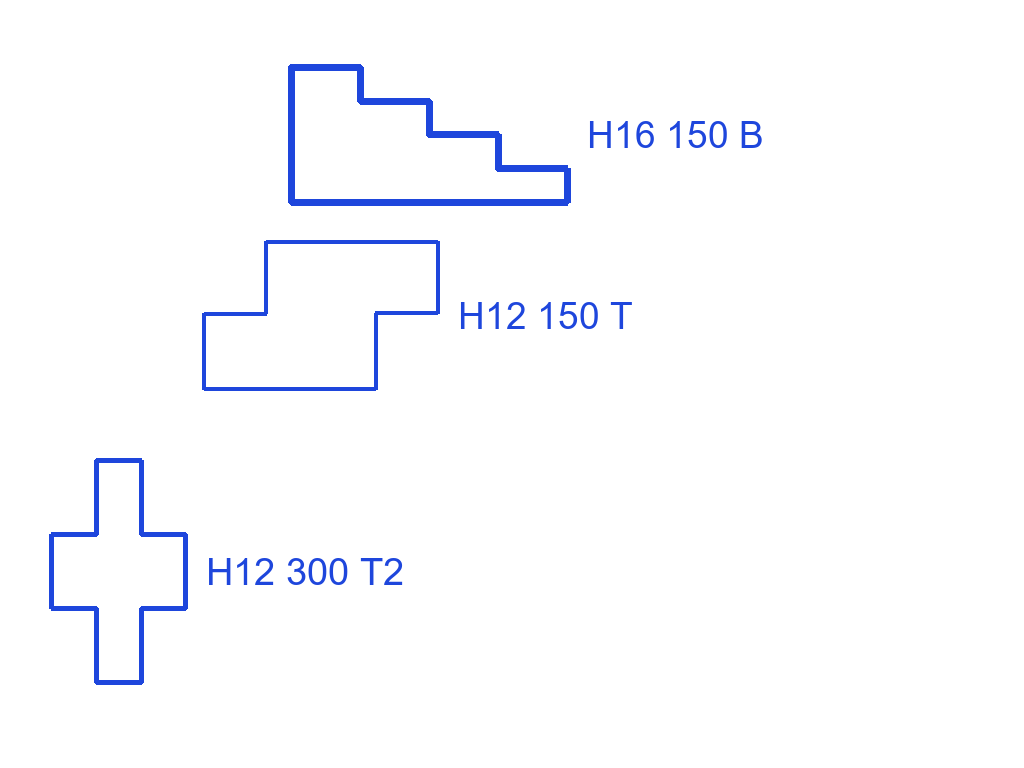shape: (286, 62, 573, 208), (201, 237, 442, 393), (47, 456, 190, 687)
text: (204, 556, 406, 587), (585, 119, 766, 150), (456, 300, 635, 331)
